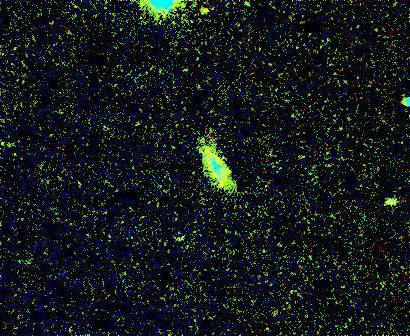star: (191, 0, 221, 27)
